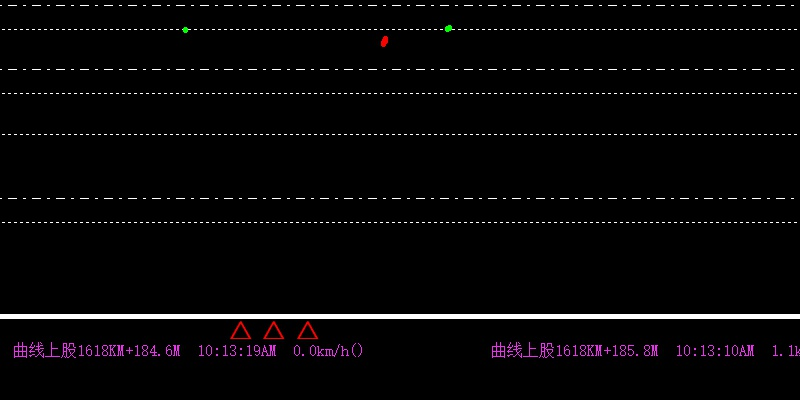face_1: (440, 20, 456, 38)
face_down: (376, 25, 389, 48)
